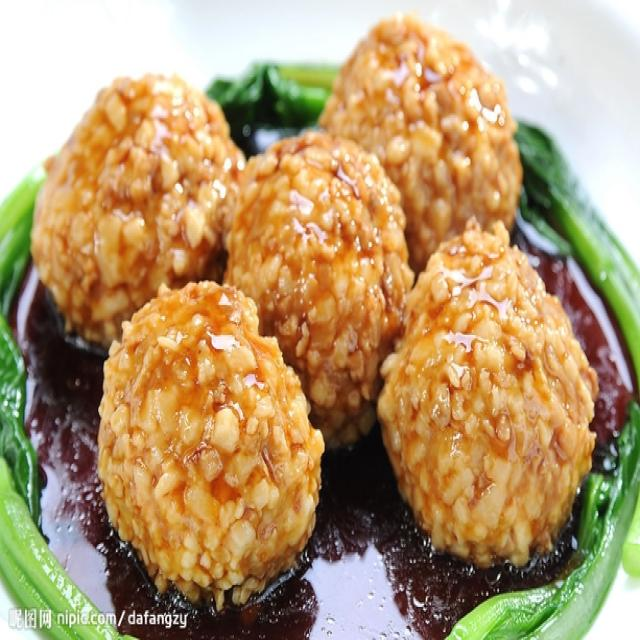猪肉菜式: (23, 23, 599, 626)
